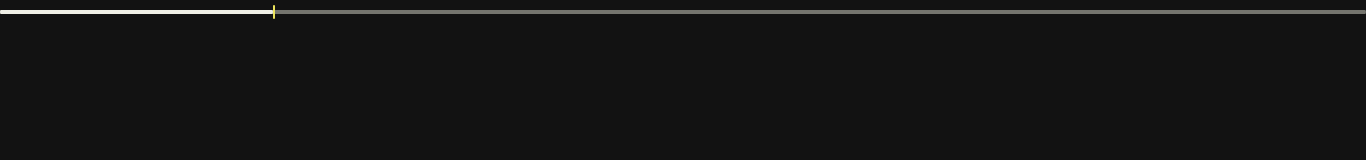
Scenario: Scale › resets to its default when the needle is double-clicked
This screenshot has width=1366, height=160.
Double-click the slider at (274, 12), box 273,5 -> 275,19
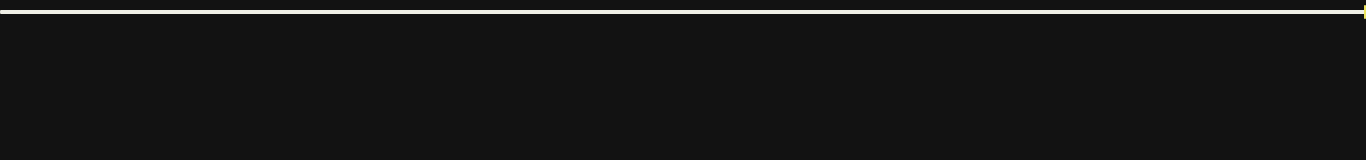
Now the slider has attribute aria-valuenow="100", box 1364,5 -> 1365,19
